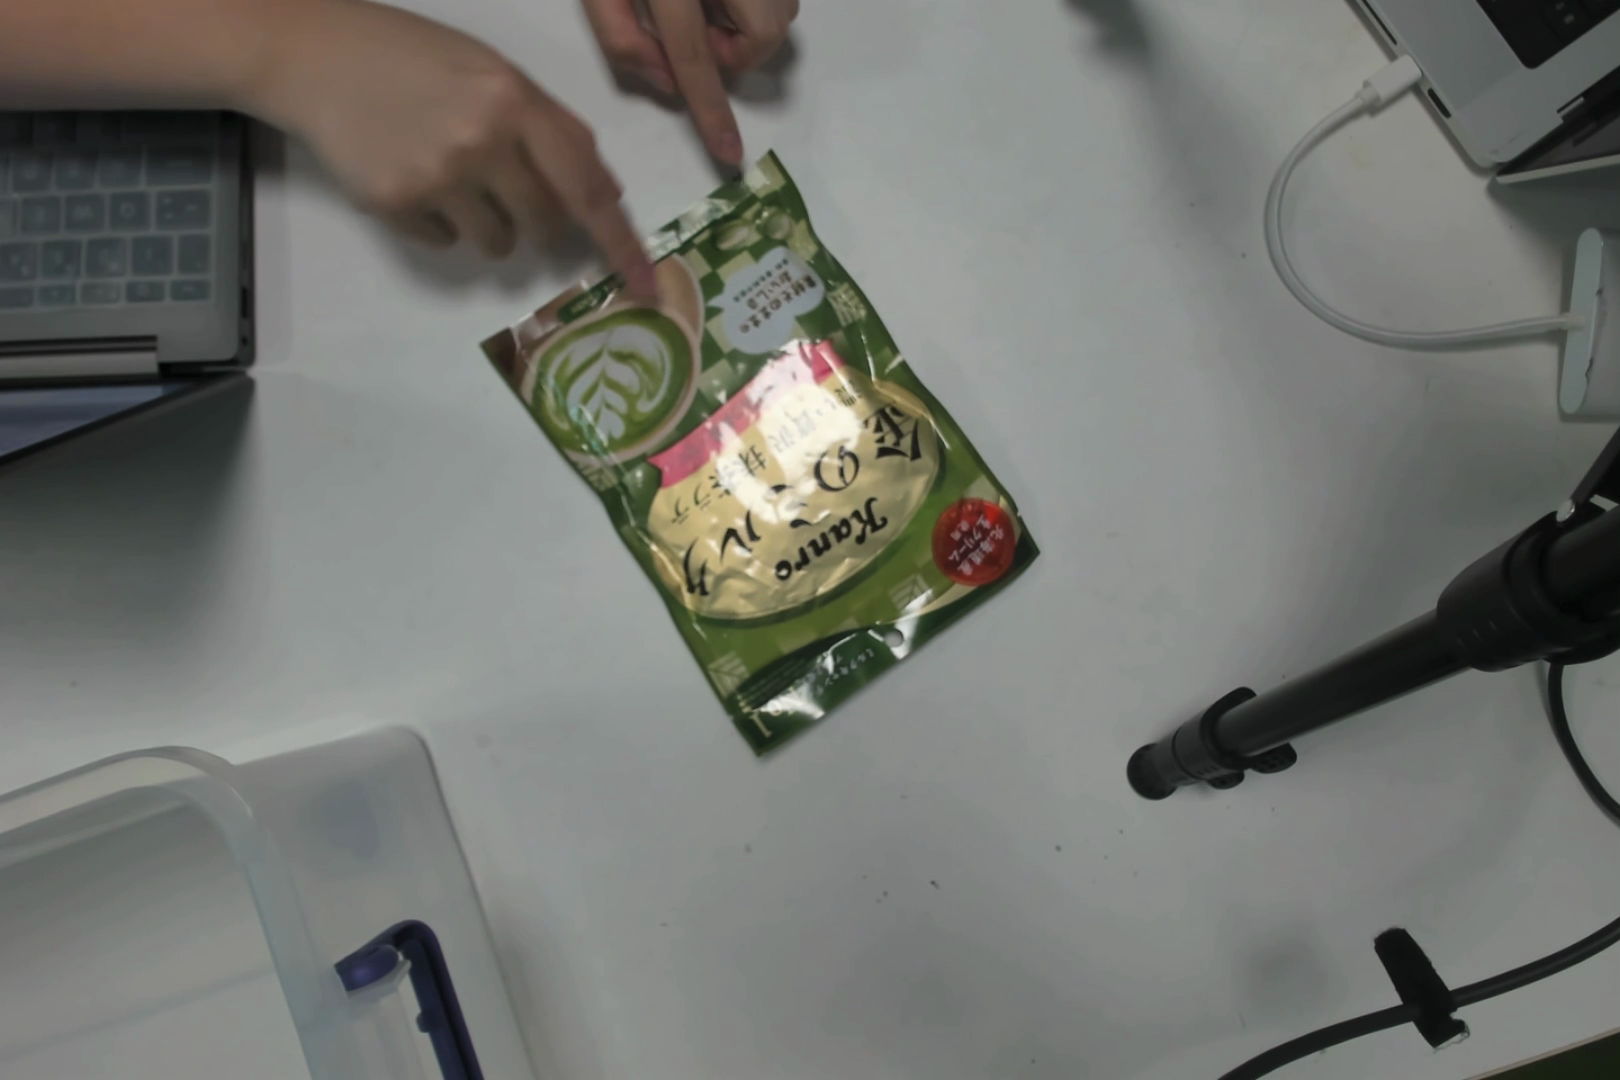SweetsChocolatesOthers_1-99g_NonHalal_NonHealthy: (559, 212, 1033, 695)
